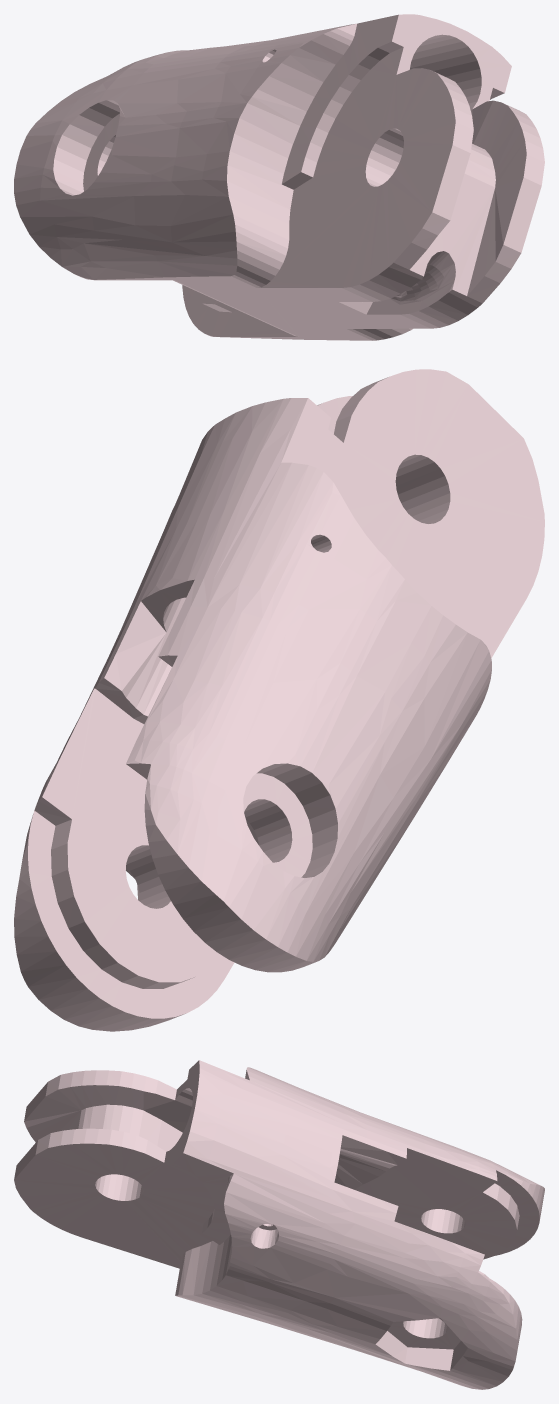
File: i02_leftHand_ringFingerMid_visual.obj.balanced.glb
The picture shows the model from 3 angles, top to bottom: view 1: azimuth 30°, elevation 25°; view 2: azimuth 150°, elevation 25°; view 3: azimuth 270°, elevation 25°; orthographic projection. The views are drawn at different scales.
Bounding box in the file's own units: 0.1925 × 0.2688 × 0.3907.
